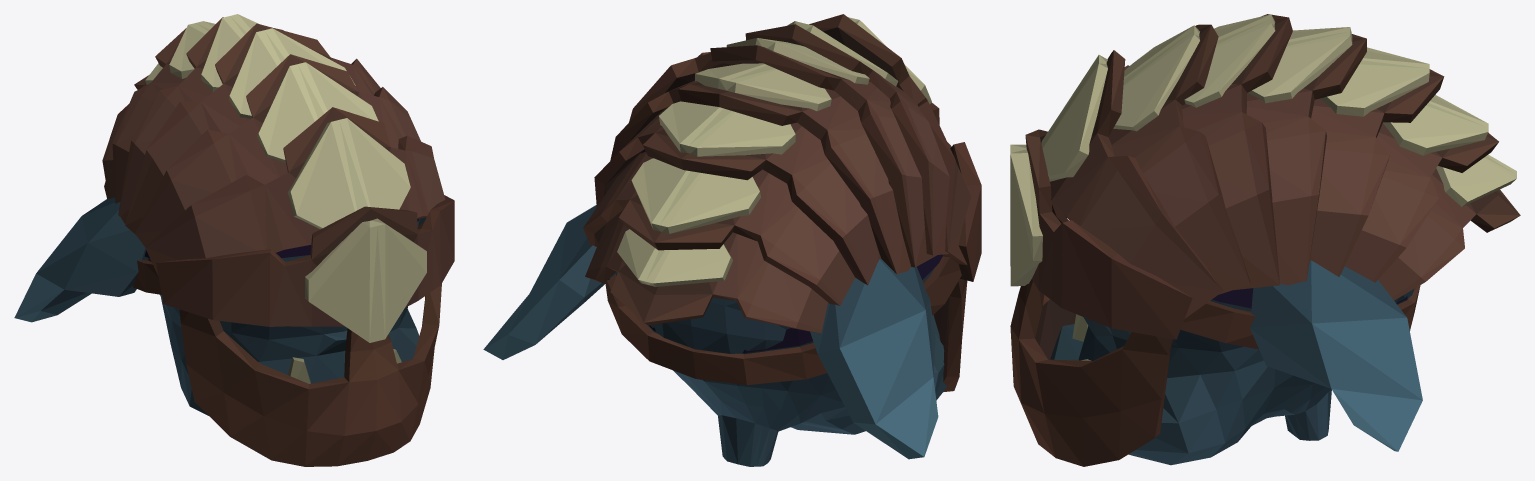
The model's file is Goblin_Blue_Head_Helm_2.fbx.
3 views of the same model, side by side, from view 1: azimuth 30°, elevation 25°; view 2: azimuth 150°, elevation 25°; view 3: azimuth 270°, elevation 25° (orthographic). The views are drawn at different scales.
Visible parts, largest first — view 1: Goblin_Blue_Head_Helm_2; view 2: Goblin_Blue_Head_Helm_2; view 3: Goblin_Blue_Head_Helm_2.
Boxes of the visible parts, bbox=[...] form: Goblin_Blue_Head_Helm_2: bbox=[14, 14, 454, 466]; Goblin_Blue_Head_Helm_2: bbox=[483, 14, 981, 466]; Goblin_Blue_Head_Helm_2: bbox=[1010, 14, 1520, 466].
Bounding box in the file's own units: 1.34 × 1.22 × 1.32.
